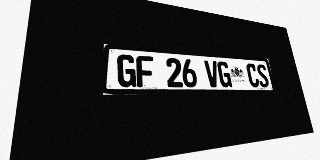2: (165, 57, 183, 87)
6: (181, 58, 198, 87)
C: (245, 63, 260, 87)
F: (136, 55, 154, 87)
G: (117, 54, 136, 87), (217, 61, 232, 87)
S: (256, 64, 270, 87)
V: (204, 60, 220, 87)
